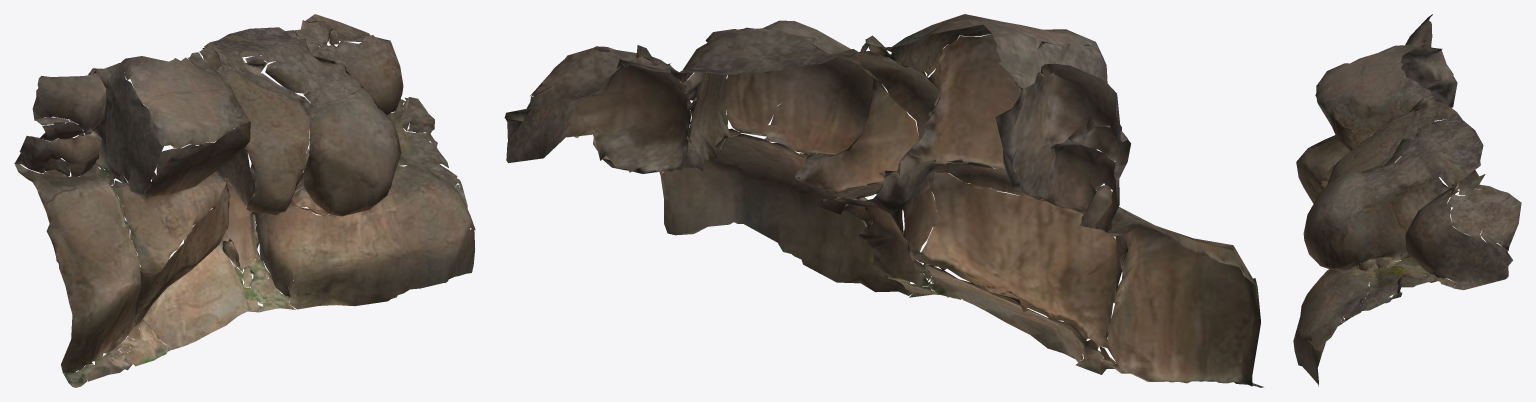
The model's file is namaqualand_cliff_01.glb.
3 renders of one model, left to right at view 1: azimuth 30°, elevation 25°; view 2: azimuth 150°, elevation 25°; view 3: azimuth 270°, elevation 25°, orthographic. The views are drawn at different scales.
Visible parts, largest first — view 1: drone_rock_01; view 2: drone_rock_01; view 3: drone_rock_01.
Part boxes in pixels (left/top/right/bottom): drone_rock_01: left=14, top=14, right=475, bottom=387; drone_rock_01: left=504, top=14, right=1263, bottom=387; drone_rock_01: left=1293, top=14, right=1521, bottom=386.
Size of the model in its own units: 8.28 by 4.95 by 4.39.
1 material, 1 textured.
